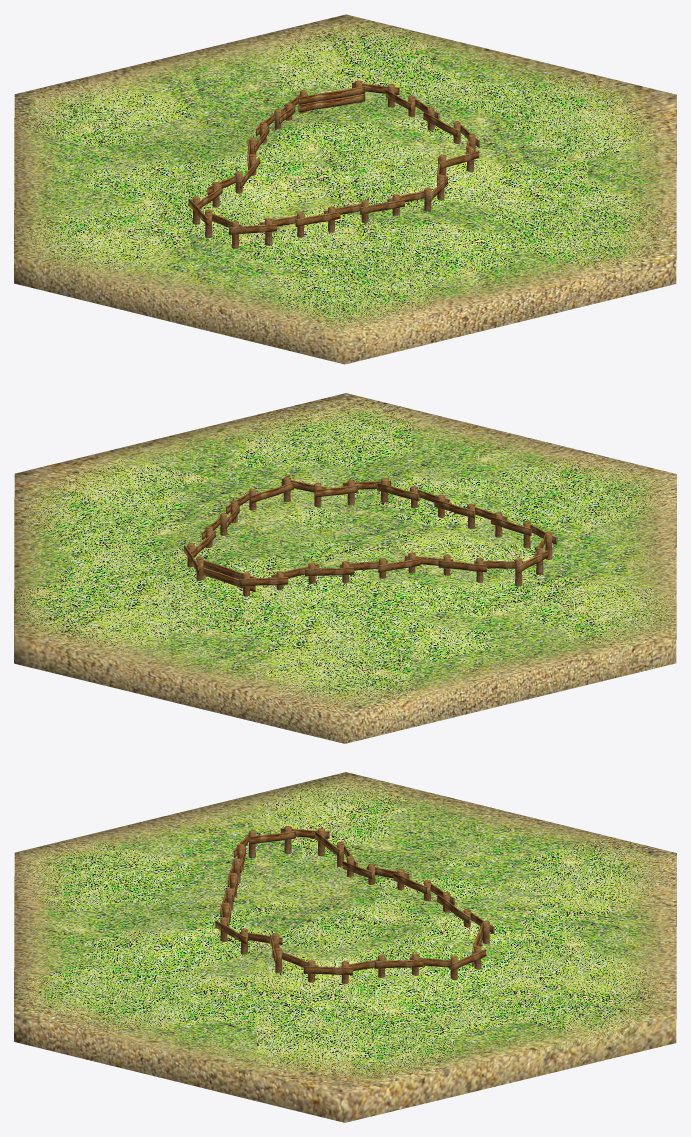
The model's file is greenhex.FBX.
3 views of the same model, one above another, from view 1: azimuth 30°, elevation 25°; view 2: azimuth 150°, elevation 25°; view 3: azimuth 270°, elevation 25° (orthographic).
Parts seen in each view (by area): view 1: Hexa_pastvina, Ohrada; view 2: Hexa_pastvina, Ohrada; view 3: Hexa_pastvina, Ohrada.
Part boxes in pixels (bbox=[...]): Hexa_pastvina: bbox=[14, 14, 676, 364]; Ohrada: bbox=[188, 80, 479, 248]; Hexa_pastvina: bbox=[14, 393, 676, 743]; Ohrada: bbox=[184, 477, 557, 596]; Hexa_pastvina: bbox=[14, 772, 676, 1122]; Ohrada: bbox=[215, 826, 494, 983].
Bounding box in the file's own units: 961 × 83.7 × 833.
Materials: 2 (2 with a texture image).
